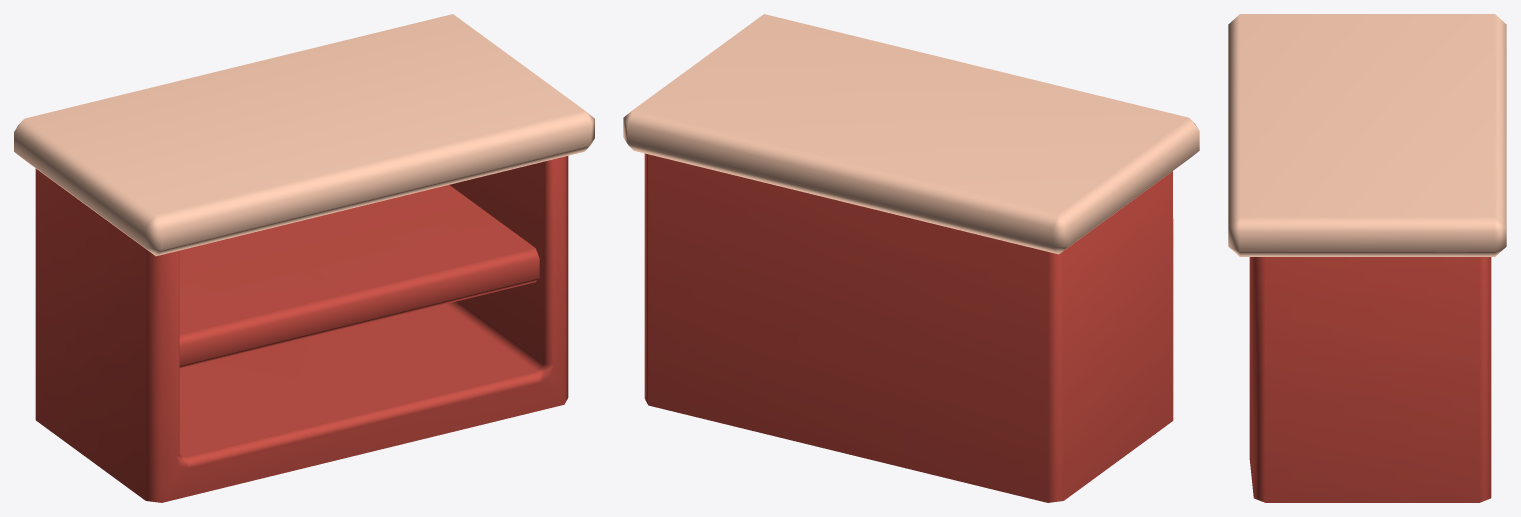
File: Homestead_cm_20.fbx
3 views of the same model, side by side, from view 1: azimuth 30°, elevation 25°; view 2: azimuth 150°, elevation 25°; view 3: azimuth 270°, elevation 25° (orthographic). The views are drawn at different scales.
Parts seen in each view (by area): view 1: Homestead_cm_20; view 2: Homestead_cm_20; view 3: Homestead_cm_20.
Boxes of the visible parts, bbox=[...] form: Homestead_cm_20: bbox=[14, 14, 594, 502]; Homestead_cm_20: bbox=[623, 14, 1199, 502]; Homestead_cm_20: bbox=[1228, 14, 1506, 502].
Bounding box in the file's own units: 175 × 110 × 96.74.
